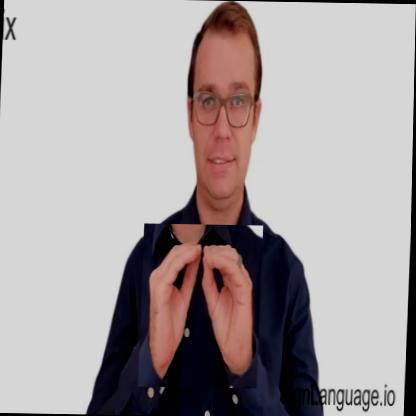Fix: (139, 223, 264, 388)
